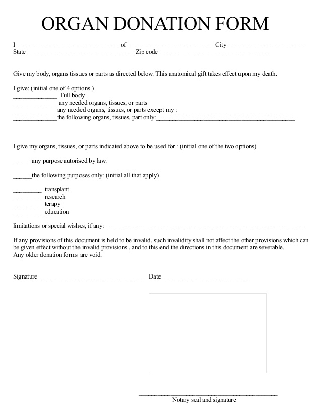textline: (102, 221, 307, 231), (36, 268, 146, 282), (161, 268, 253, 283), (176, 105, 297, 115), (156, 114, 297, 122), (125, 38, 215, 50), (16, 40, 119, 50), (225, 37, 304, 50), (157, 49, 269, 57), (25, 50, 135, 57), (11, 98, 57, 109), (11, 107, 59, 116), (11, 91, 58, 100), (11, 115, 58, 123), (12, 208, 46, 217), (12, 184, 42, 194), (12, 201, 46, 209), (12, 194, 44, 202), (12, 171, 33, 180), (11, 155, 29, 165)
